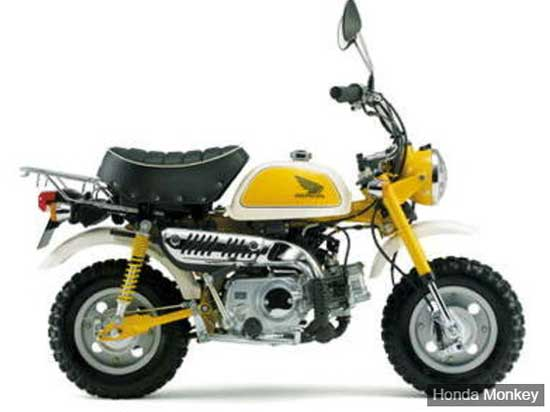motorcycle: (34, 138, 524, 383)
